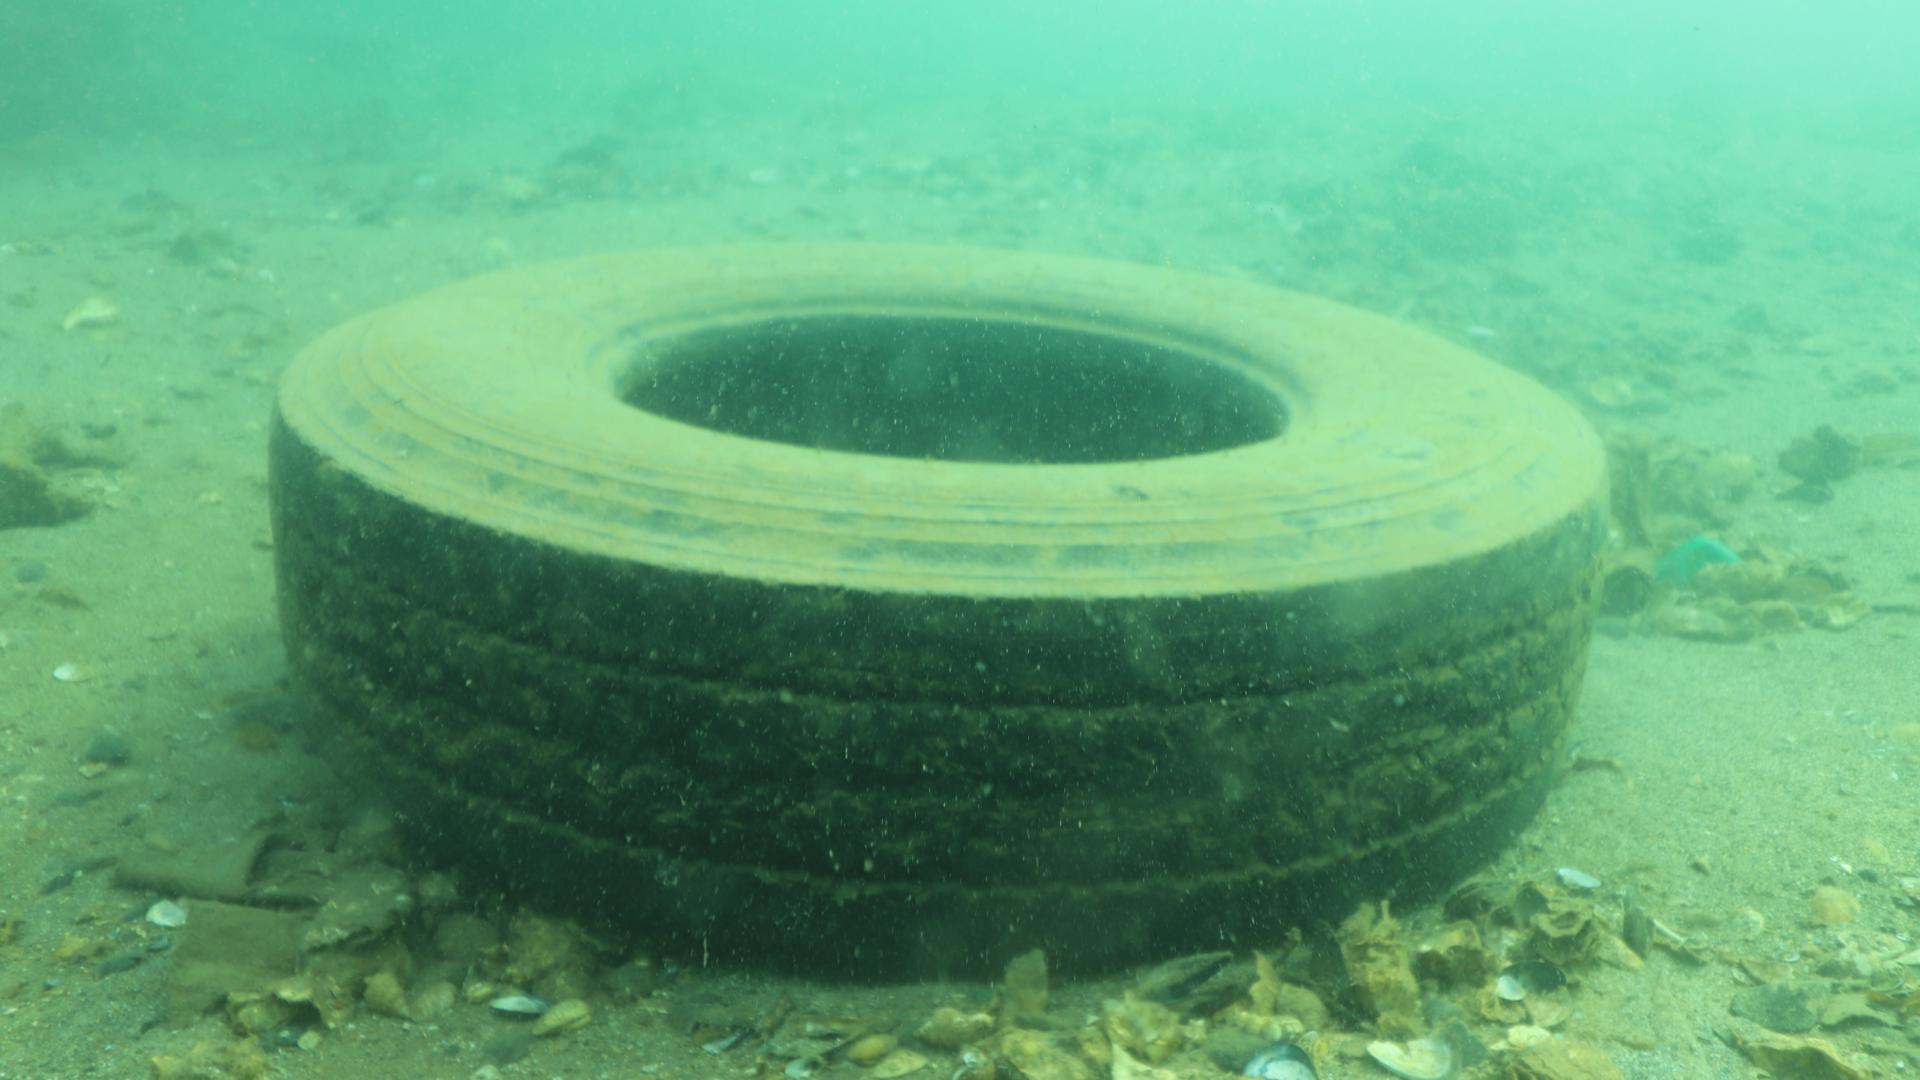tire: (266, 243, 1611, 988)
